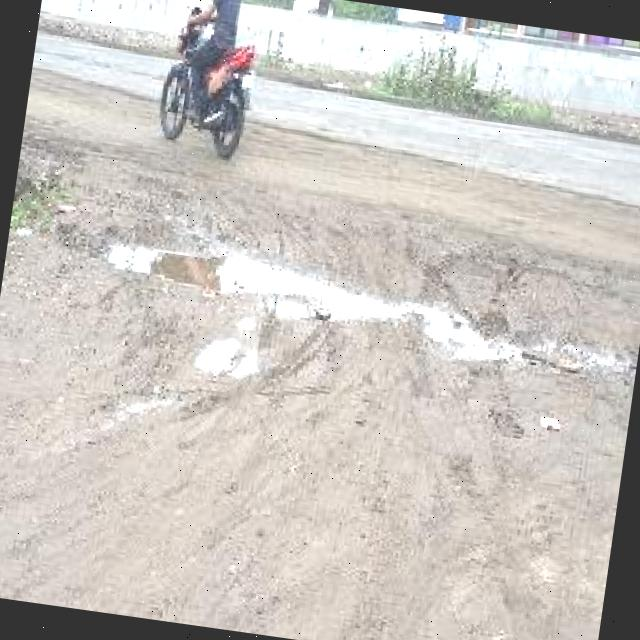stagnation: (93, 200, 557, 380), (166, 317, 290, 413)
